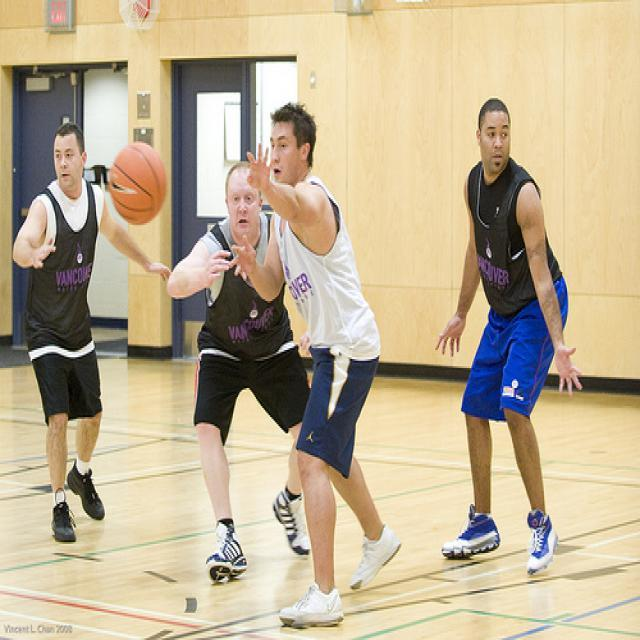basketball: (111, 143, 168, 223)
